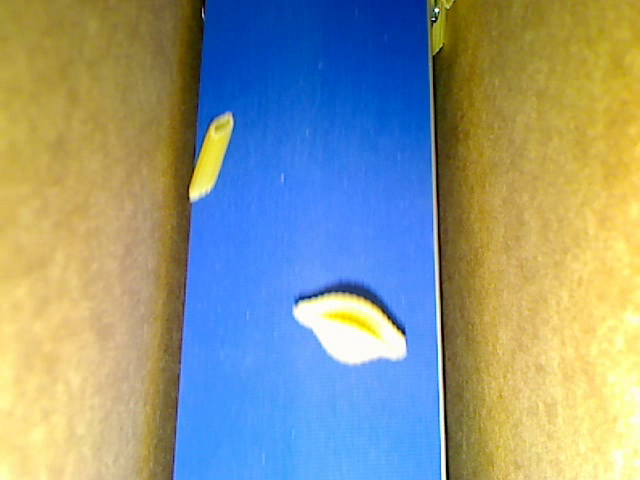penne: (188, 109, 238, 204), (425, 1, 447, 64)
shell: (288, 287, 412, 366)
